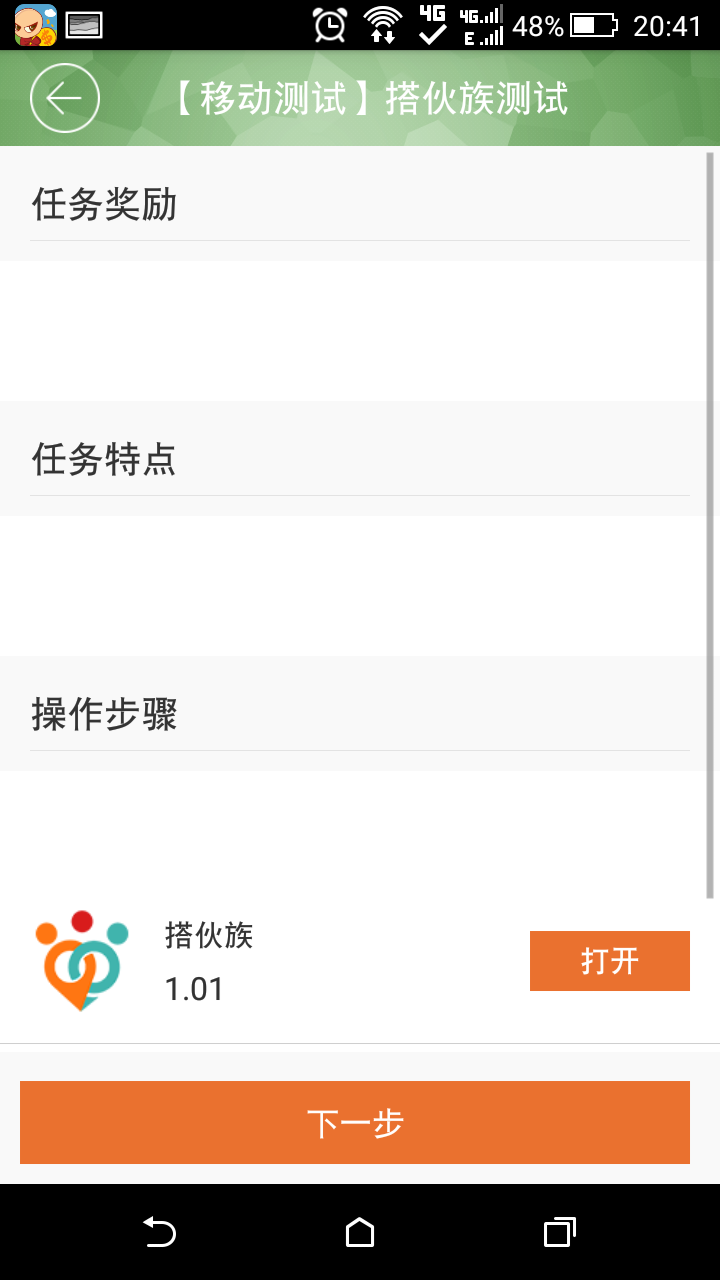button: (11, 1071, 699, 1171), (524, 921, 704, 998)
imgbutton: (19, 58, 118, 138)
textview: (13, 158, 696, 402), (149, 53, 719, 135)
